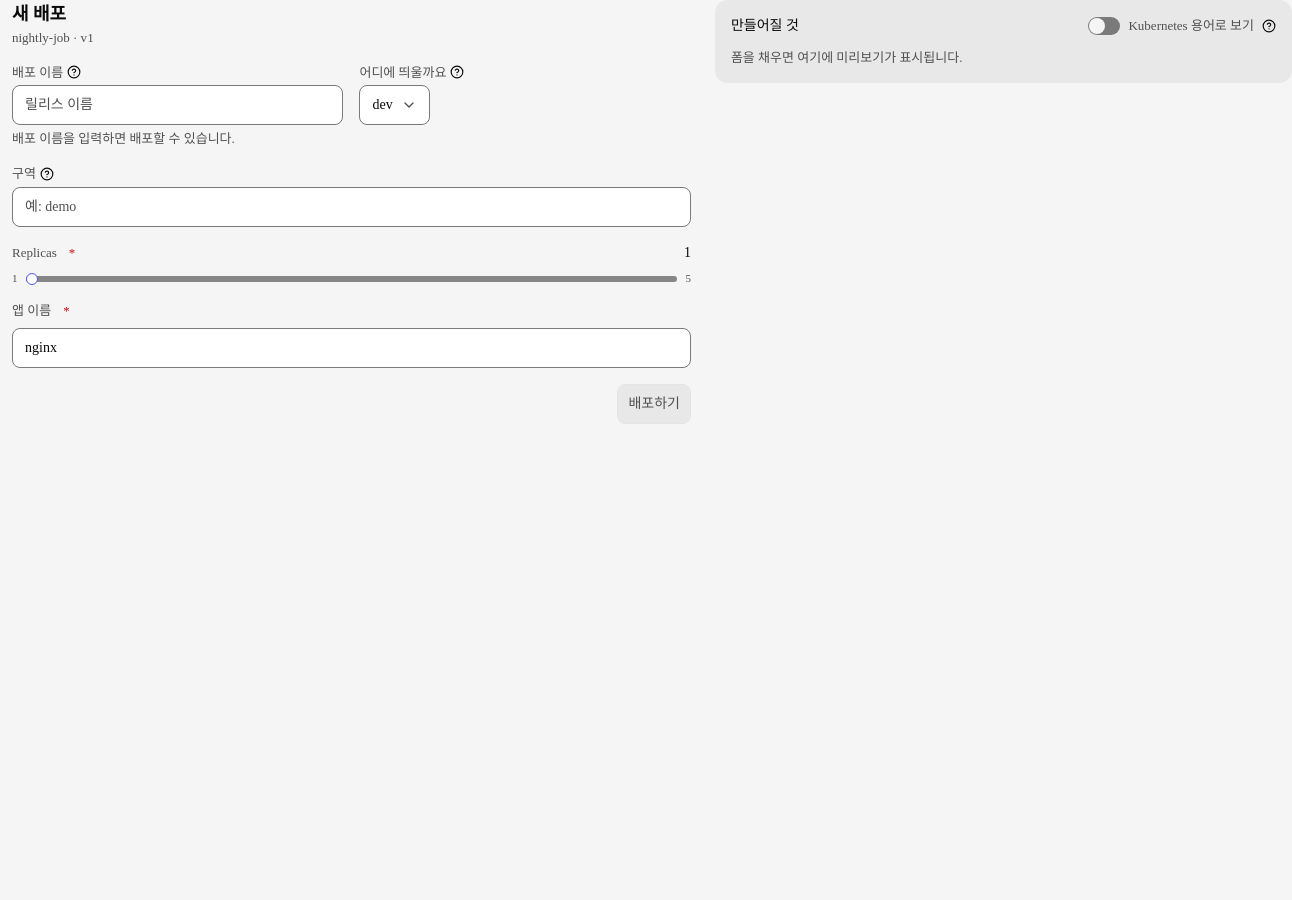
Test: DeployClient › does not invent an owner when kubeport did not create the holder
The width and height of the screenshot is (1292, 900).
Type "my-app" into the field labelled "배포 이름" at coordinates (178, 105), box [12, 85, 344, 125]
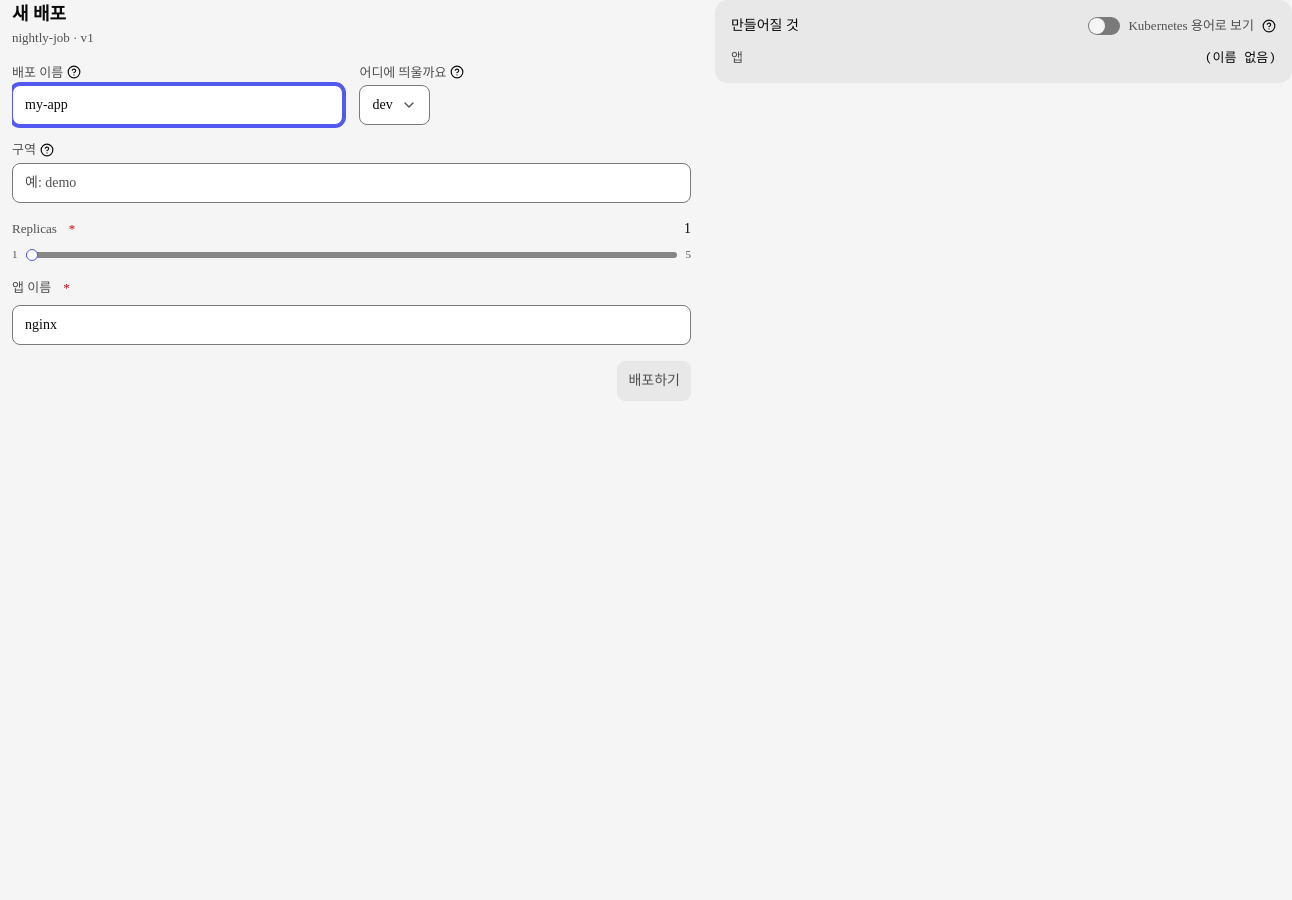
Type "default" into the field labelled "구역" at coordinates (351, 183), box [12, 163, 691, 203]
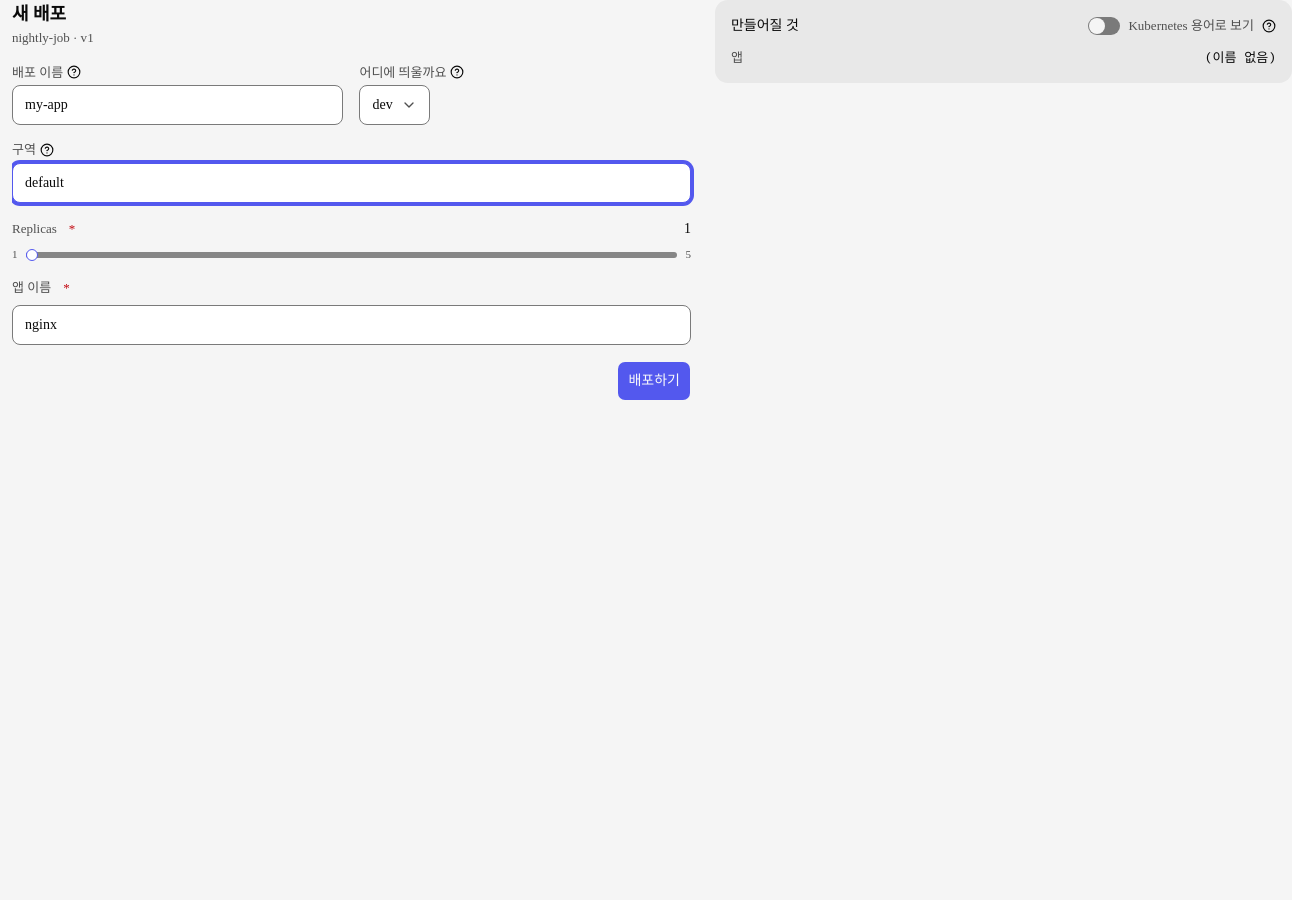
Result: the button "배포하기" is enabled
Click the button "배포하기" at coordinates (654, 381), box [617, 361, 691, 401]
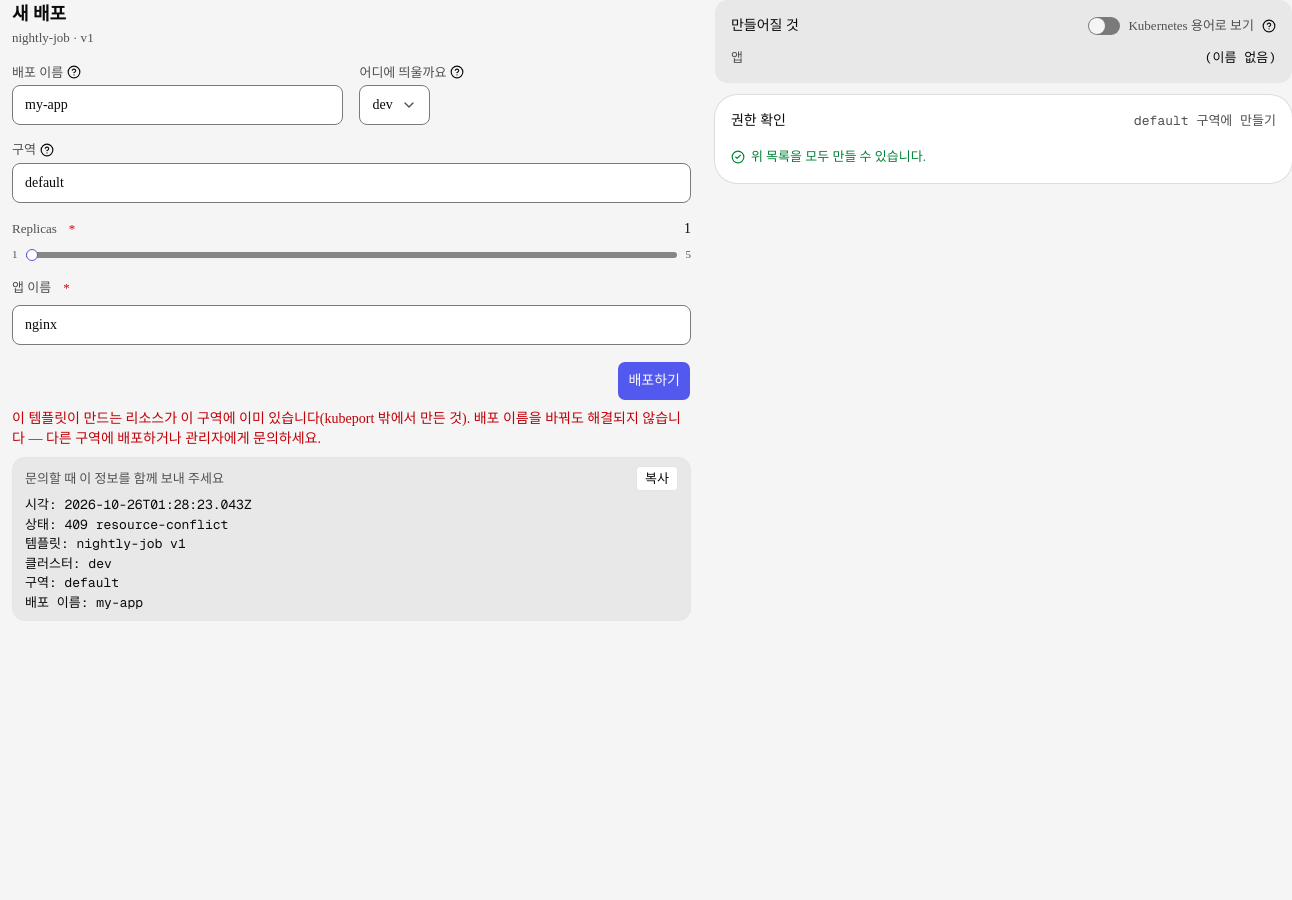
Result: the message shows "kubeport 밖에서 만든 것" at [12, 411, 681, 446]
